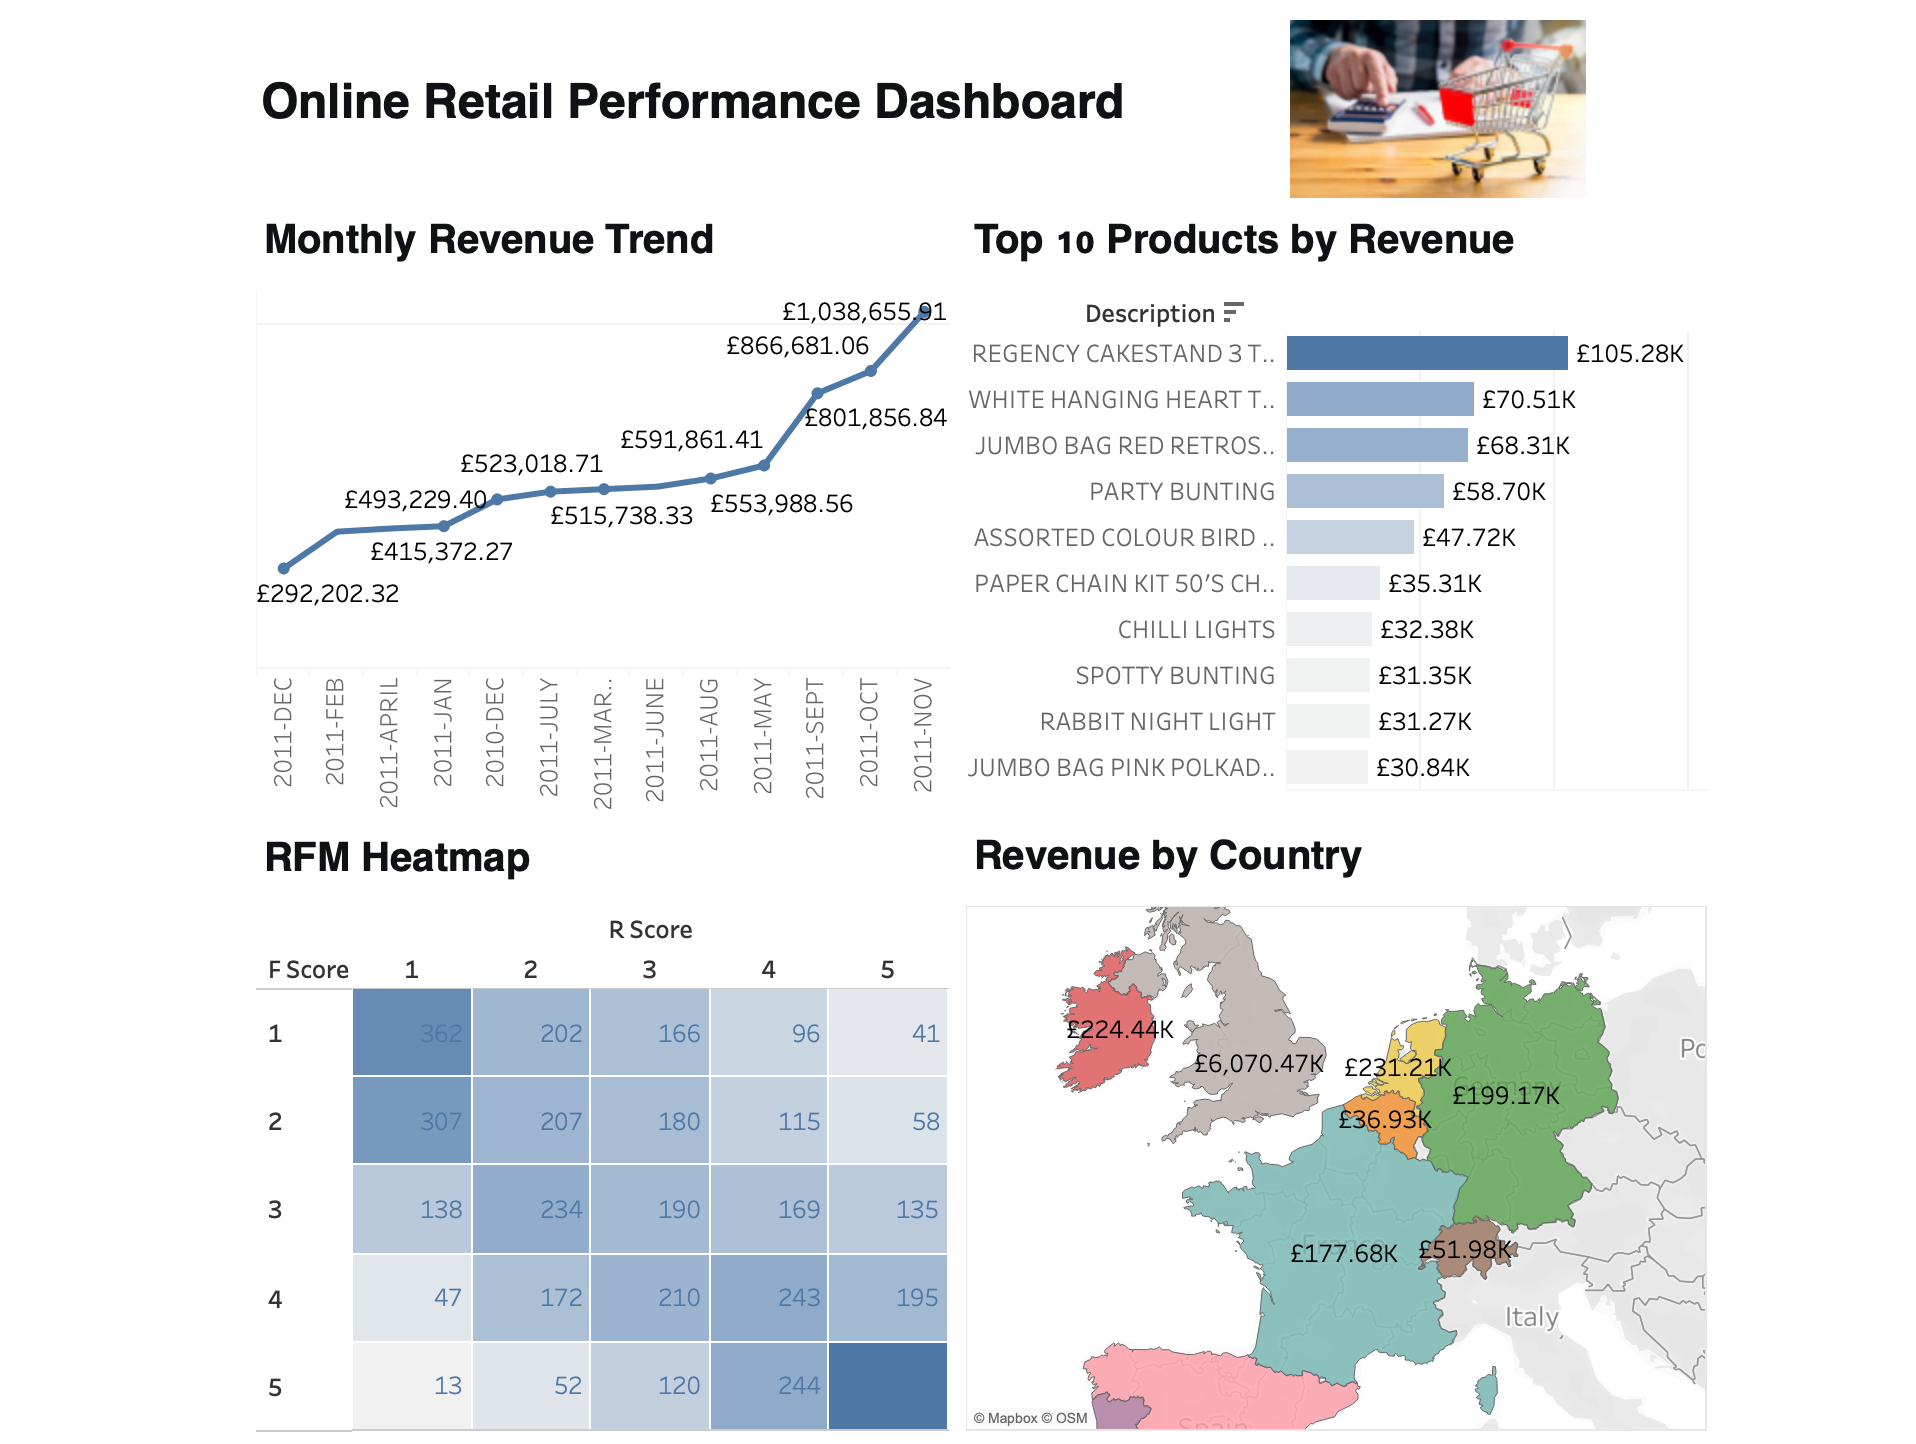

This screenshot's page, from the dashboard's own definition file:
{"tool":"tableau","page":{"name":"Dashboard 1","canvas":[1000,1000],"units":"permille","ordinal":0},"visuals":[{"type":"text","box":[10.7,11.4,608,132.9]},{"type":"image","param":"/Users/2020m1/Downloads/the main one .jpg","box":[618.7,11.4,370.7,132.9]},{"type":"worksheet","title":"Monthly Revenue Trend","mark":"Line","rows":["TotalPrice (monthly_revenue.csv)"],"cols":["InvoiceDate (monthly_revenue.csv)"],"box":[10.7,144.3,473.3,422.2]},{"type":"worksheet","title":"Top 10 Products by Revenue","mark":"Automatic","rows":["Description"],"cols":["TotalPrice"],"box":[484,144.3,505.3,421.5]},{"type":"worksheet","title":"Revenue by Country","mark":"Multipolygon","box":[484,565.8,505.3,422.8]},{"type":"worksheet","title":"RFM Heatmap","mark":"Square","rows":["F_Score"],"cols":["R_Score"],"box":[10.7,566.5,473.3,422.1]}]}

Visuals, with their boxes on the dashboard's canvas, which has no fixed pixel size, in thousandths of its width and height (x1, y1, x2, y2). These are canvas units, not pixel positions in the 1916x1444 screenshot, which may show the page scaled, cropped or inside an application window:
text: 11:11:619:144
image: 619:11:989:144
"Monthly Revenue Trend" worksheet (Line marks): 11:144:484:566
"Top 10 Products by Revenue" worksheet: 484:144:989:566
"Revenue by Country" worksheet (Multipolygon marks): 484:566:989:989
"RFM Heatmap" worksheet (Square marks): 11:566:484:989
